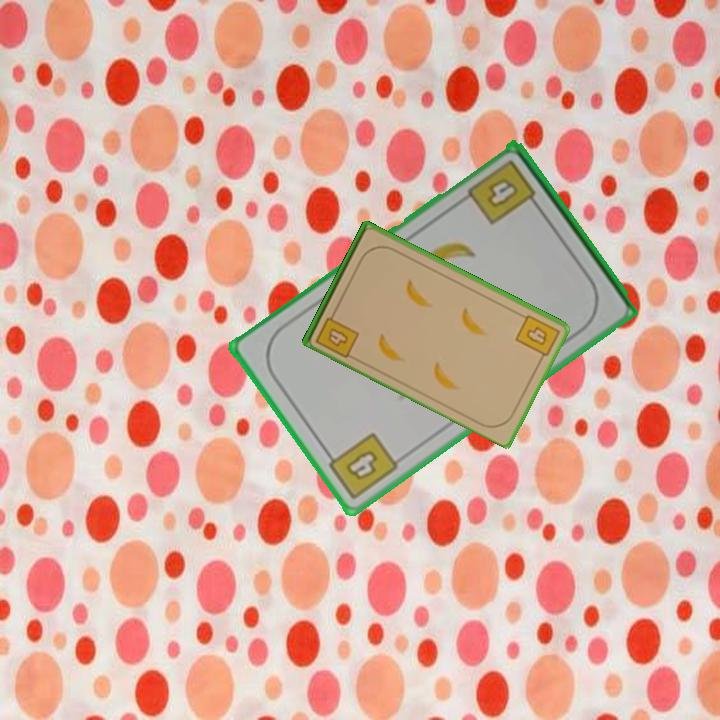4b: (320, 429, 401, 503), (464, 156, 543, 228), (312, 306, 362, 360), (512, 311, 562, 364)
